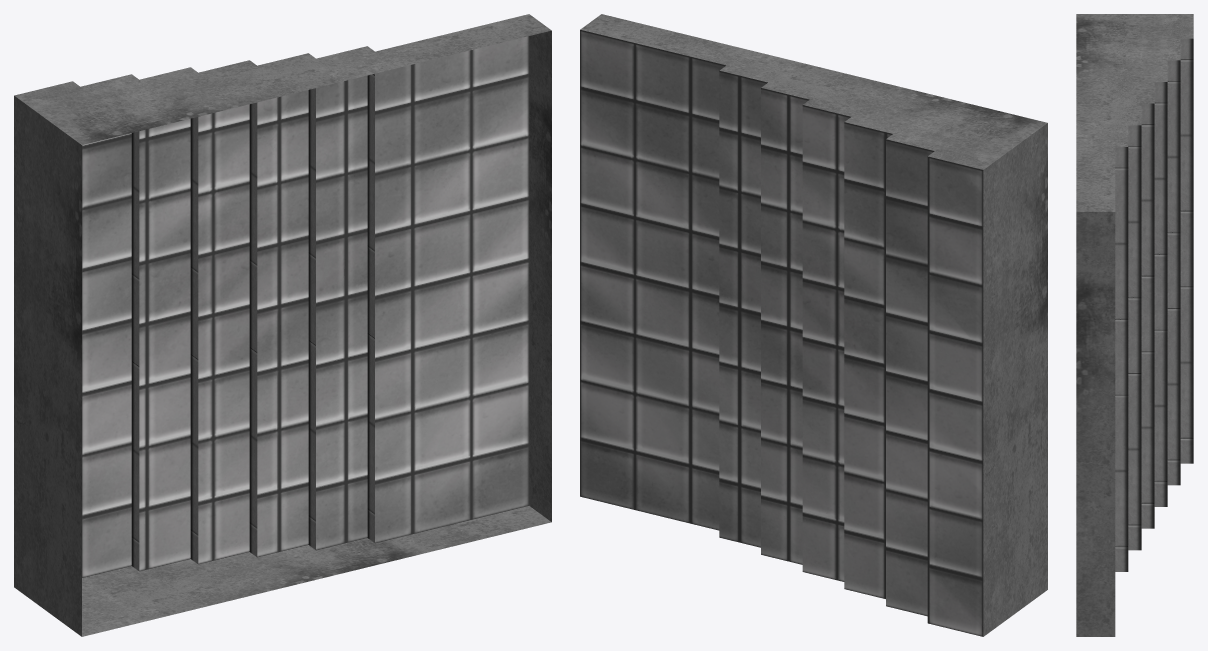
The model's file is ground_floor_piece_4x4_stairs.fbx.
The picture shows the model from 3 angles, left to right: view 1: azimuth 30°, elevation 25°; view 2: azimuth 150°, elevation 25°; view 3: azimuth 270°, elevation 25°; orthographic projection. The views are drawn at different scales.
Parts seen in each view (by area): view 1: ground_floor_piece_4x4_stairs; view 2: ground_floor_piece_4x4_stairs; view 3: ground_floor_piece_4x4_stairs.
Part boxes in pixels (box(x1,y1,x2,y2)): ground_floor_piece_4x4_stairs: box(14, 14, 551, 636); ground_floor_piece_4x4_stairs: box(580, 14, 1047, 636); ground_floor_piece_4x4_stairs: box(1076, 14, 1193, 636).
Size of the model in its own units: 4 by 4 by 1.
